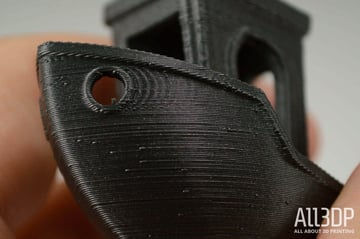blob: (107, 147, 156, 175), (175, 164, 194, 220), (69, 128, 101, 153)
